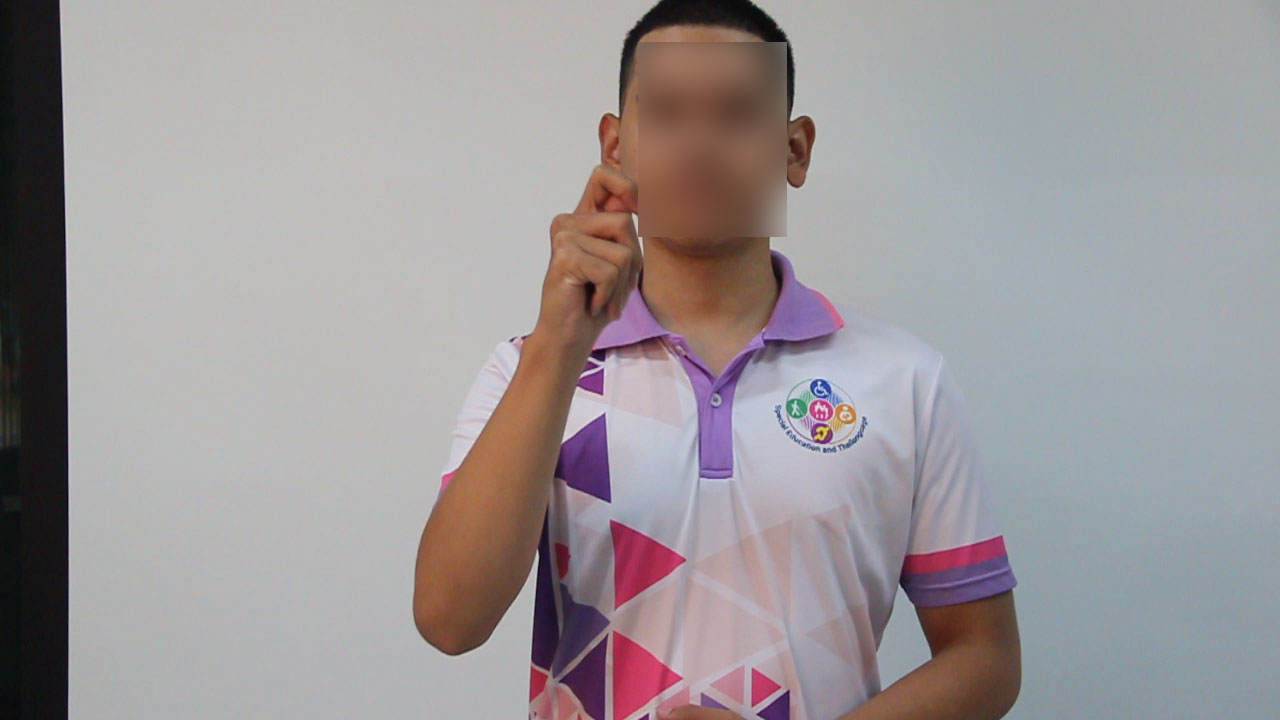or: (532, 155, 651, 350)
